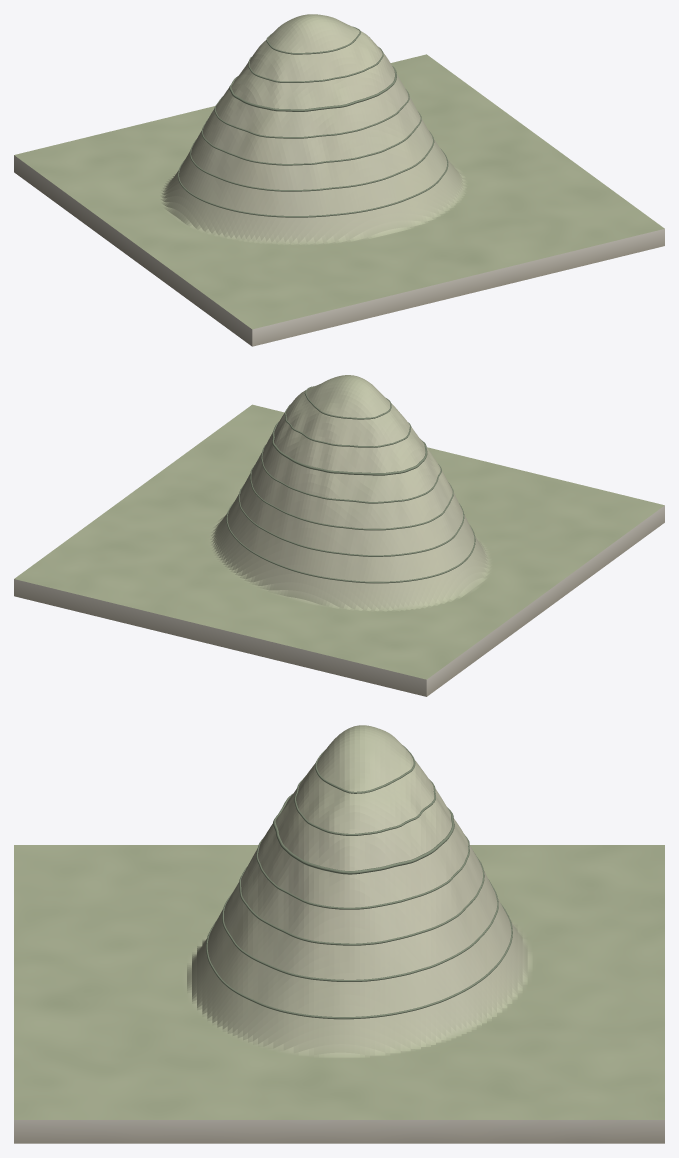
File: terrain-steep.glb
The picture shows the model from 3 angles, top to bottom: view 1: azimuth 30°, elevation 25°; view 2: azimuth 150°, elevation 25°; view 3: azimuth 270°, elevation 25°; orthographic projection. The views are drawn at different scales.
Visible parts, largest first — view 1: Steep_Surface, Steep_DioramaBase, Steep_Contours; view 2: Steep_Surface, Steep_DioramaBase, Steep_Contours; view 3: Steep_Surface, Steep_DioramaBase, Steep_Contours.
Boxes of the visible parts, x1,y1,x2,y2 form: Steep_Surface: (14,14,664,329); Steep_DioramaBase: (14,155,664,346); Steep_Contours: (177,26,448,217); Steep_Surface: (14,375,664,679); Steep_DioramaBase: (14,505,664,696); Steep_Contours: (226,386,475,583); Steep_Surface: (14,725,664,1119); Steep_DioramaBase: (14,1120,664,1143); Steep_Contours: (206,745,512,1019).
Size of the model in its own units: 200 by 89.05 by 200.
